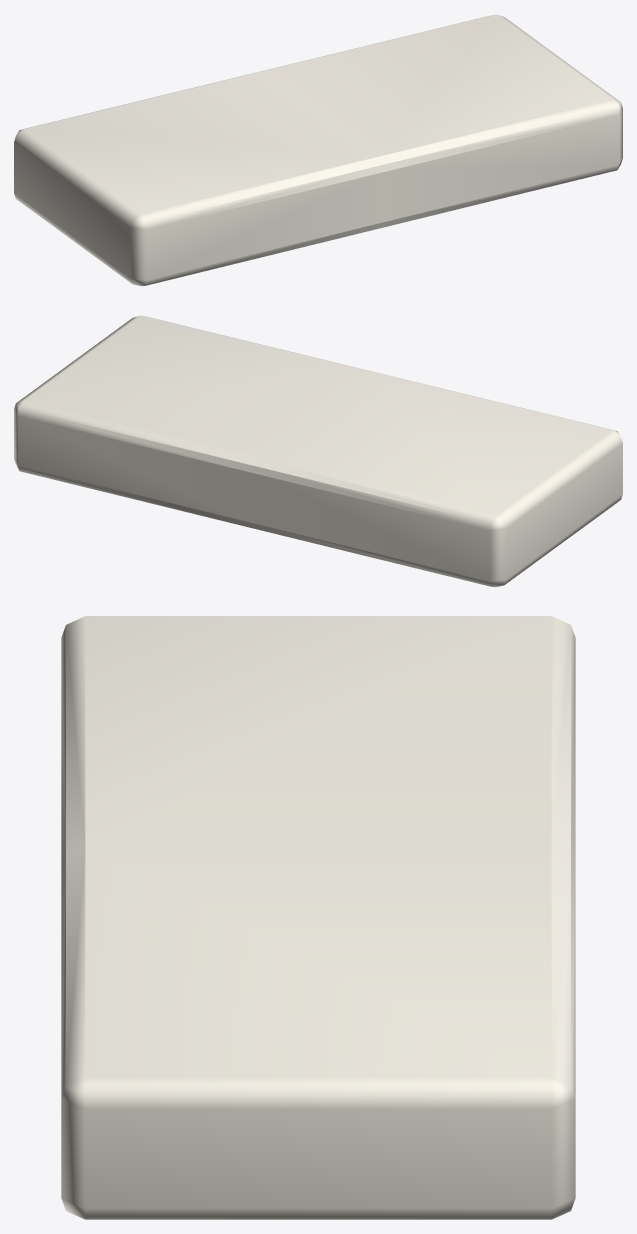
3 renders of one model, top to bottom at view 1: azimuth 30°, elevation 25°; view 2: azimuth 150°, elevation 25°; view 3: azimuth 270°, elevation 25°, orthographic. The views are drawn at different scales.
Parts seen in each view (by area): view 1: domino:domino:domino:domino:polySurface5; view 2: domino:domino:domino:domino:polySurface5; view 3: domino:domino:domino:domino:polySurface5.
Part boxes in pixels (left/top/right/bottom): domino:domino:domino:domino:polySurface5: left=14, top=14, right=622, bottom=286; domino:domino:domino:domino:polySurface5: left=14, top=315, right=622, bottom=587; domino:domino:domino:domino:polySurface5: left=61, top=616, right=575, bottom=1219.
Size of the model in its own units: 3.28 by 0.4579 by 1.48.
Materials: 1 (1 with a texture image).
